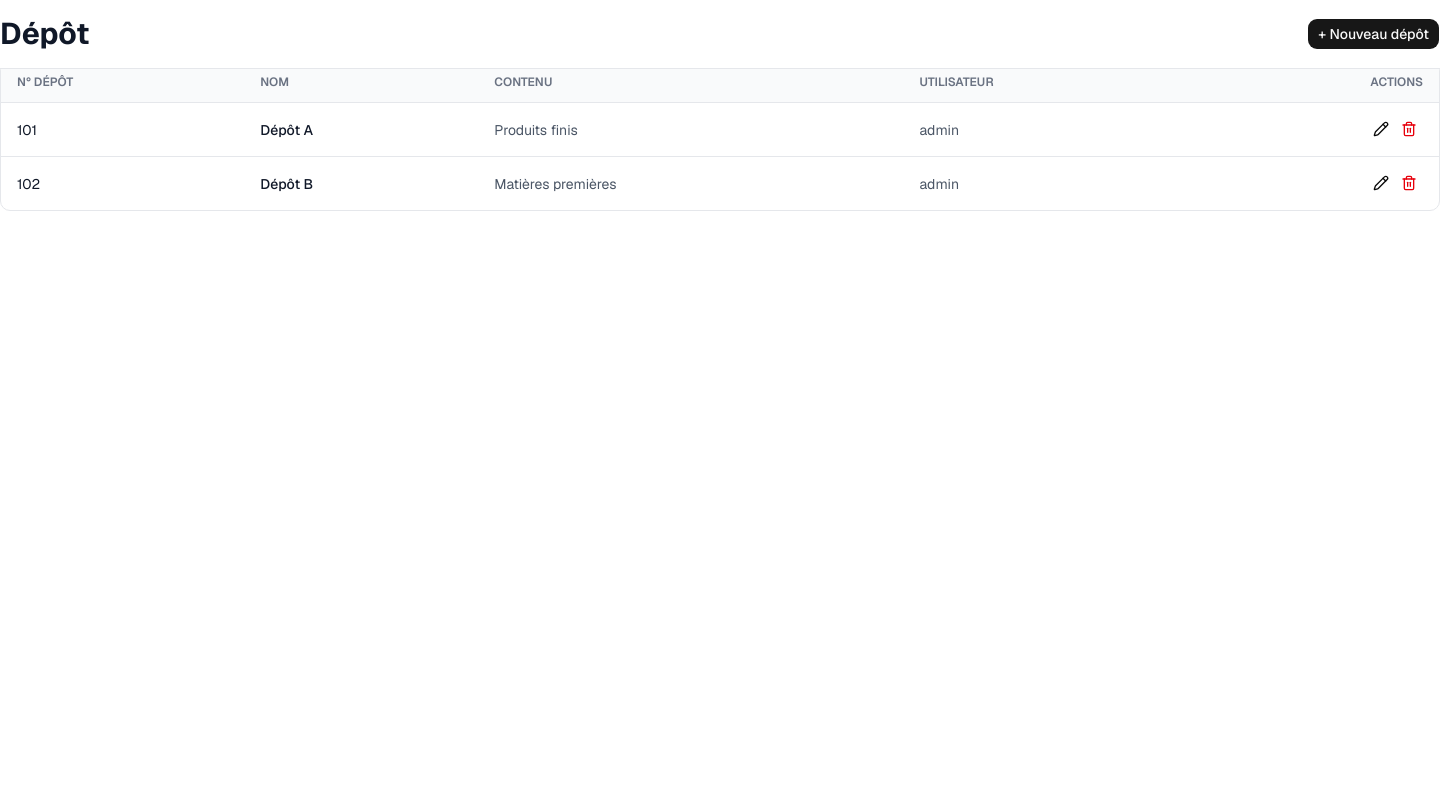
Test: opens edit dialog pre-filled with depot data
Expected: the text "Dépôt A" is shown, [244,102,478,156]
Click the button named "modifier" in the row of "101" at (1381, 129), box [1367,115,1395,143]
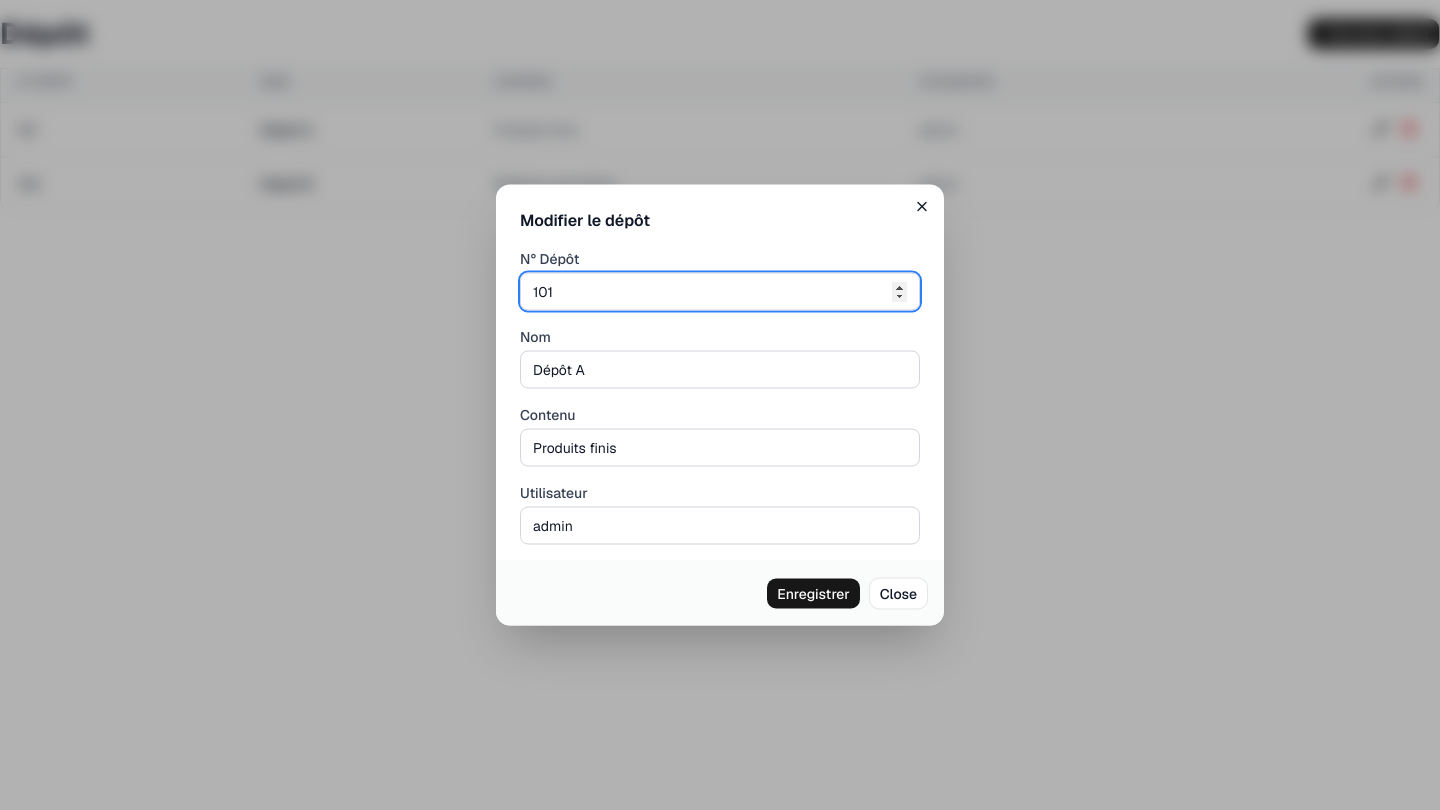
Now the heading "Modifier le dépôt" is shown, box [520,210,650,230]
Now the number field labelled "N° Dépôt" holds "101", box [520,272,920,310]
Now the field labelled "Nom" holds "Dépôt A", box [520,350,920,388]
